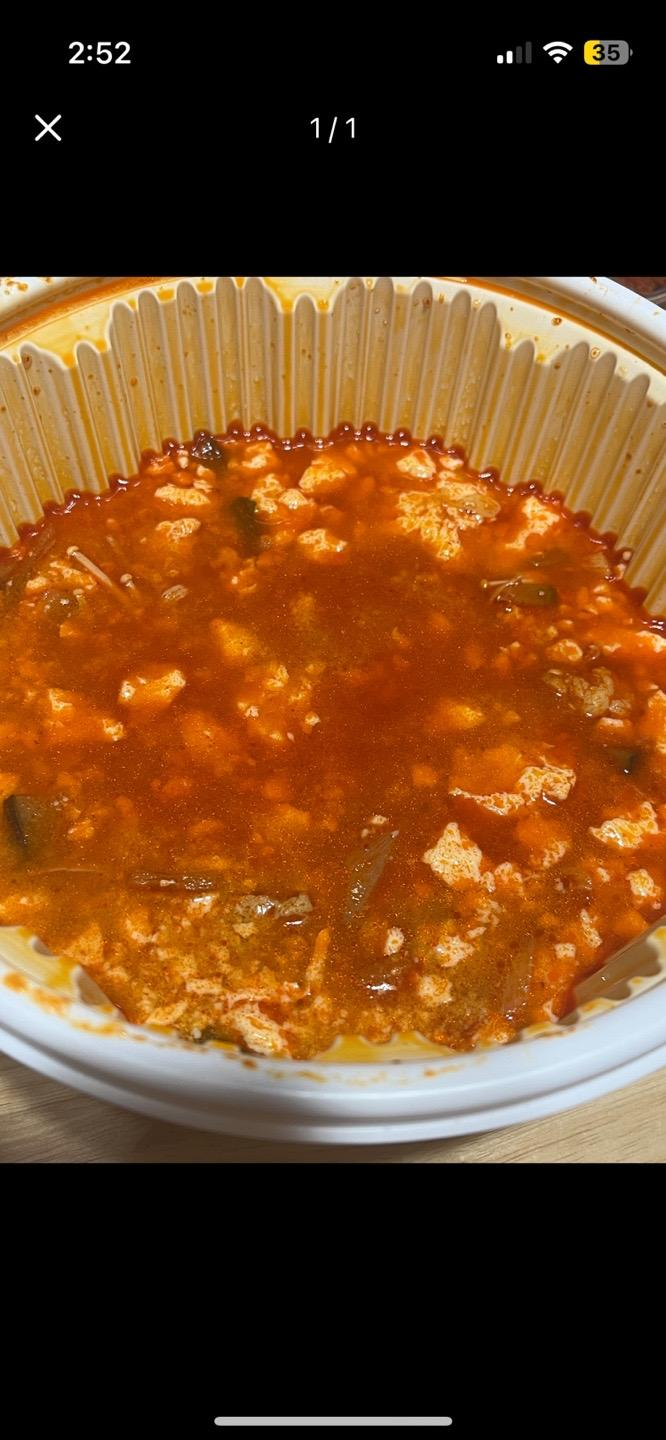Lunch Box: (0, 277, 665, 1144)
